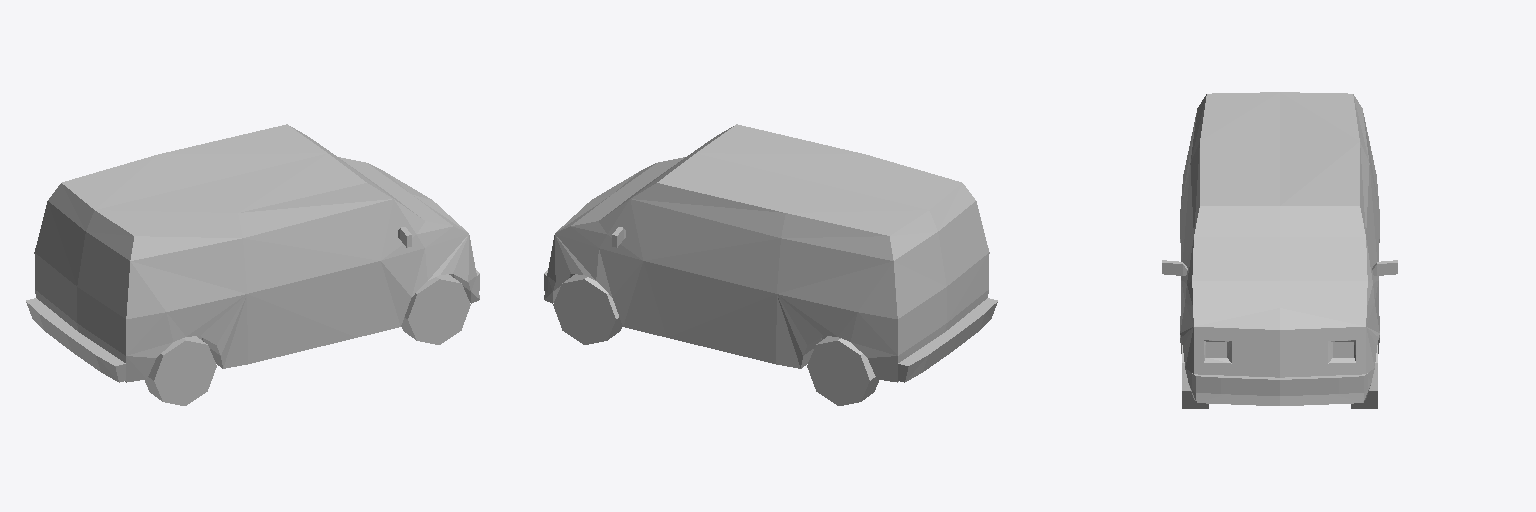
Rendered from Car4_o1.obj.
3 views of the same model, side by side, from view 1: azimuth 30°, elevation 25°; view 2: azimuth 150°, elevation 25°; view 3: azimuth 270°, elevation 25° (orthographic).
Visible parts, largest first — view 1: Car4; view 2: Car4; view 3: Car4.
Part boxes in pixels (left/top/right/bottom): Car4: left=26, top=124, right=479, bottom=405; Car4: left=544, top=124, right=997, bottom=405; Car4: left=1162, top=92, right=1397, bottom=408.
Size of the model in its own units: 3.67 by 1.6 by 1.98.